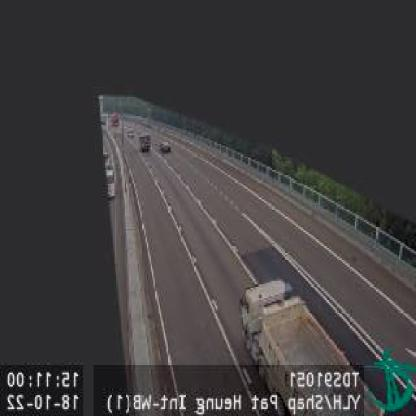Car: (160, 140, 172, 154)
Truck: (238, 275, 367, 413), (138, 132, 151, 154)
